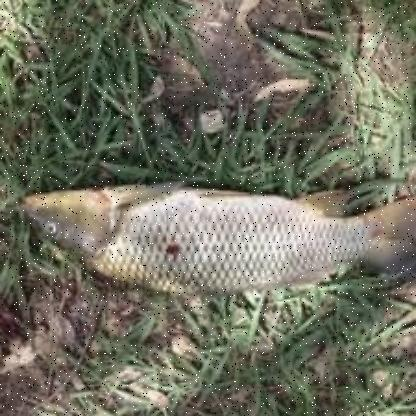ikan-mas: (23, 181, 416, 297)
